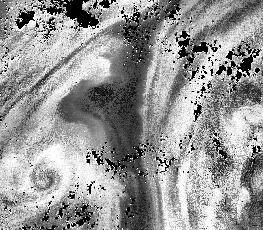CE: (21, 148, 71, 206)
